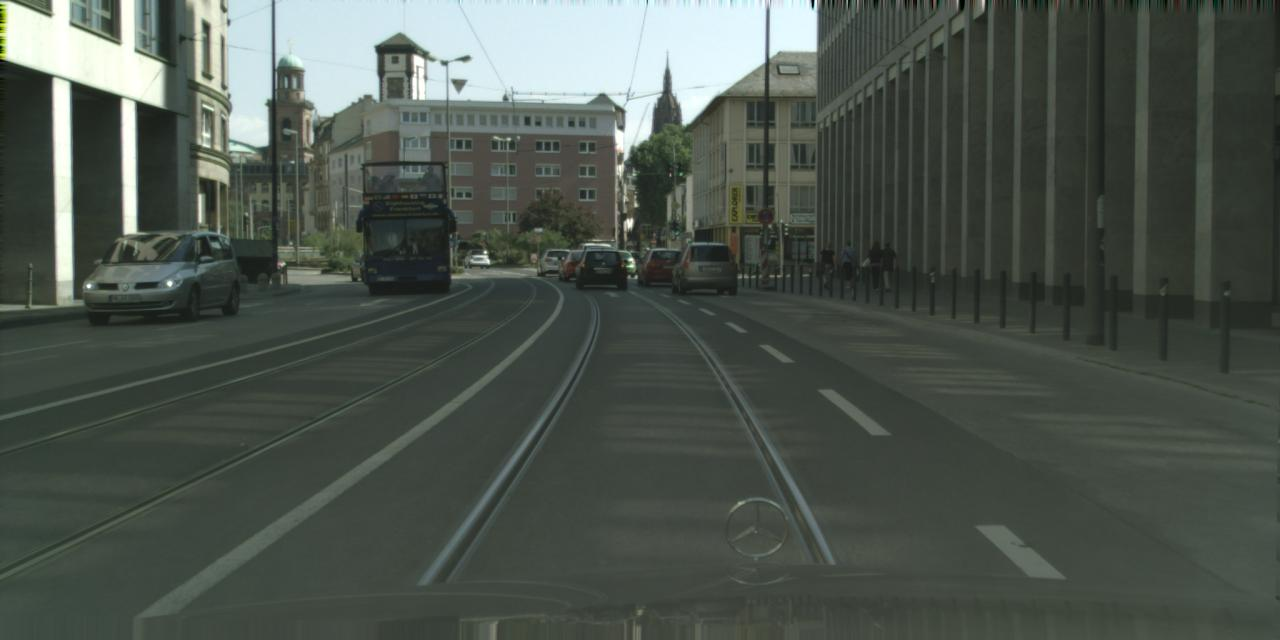ped: (866, 240, 887, 292), (877, 240, 897, 292), (817, 242, 837, 289), (839, 239, 858, 287)
